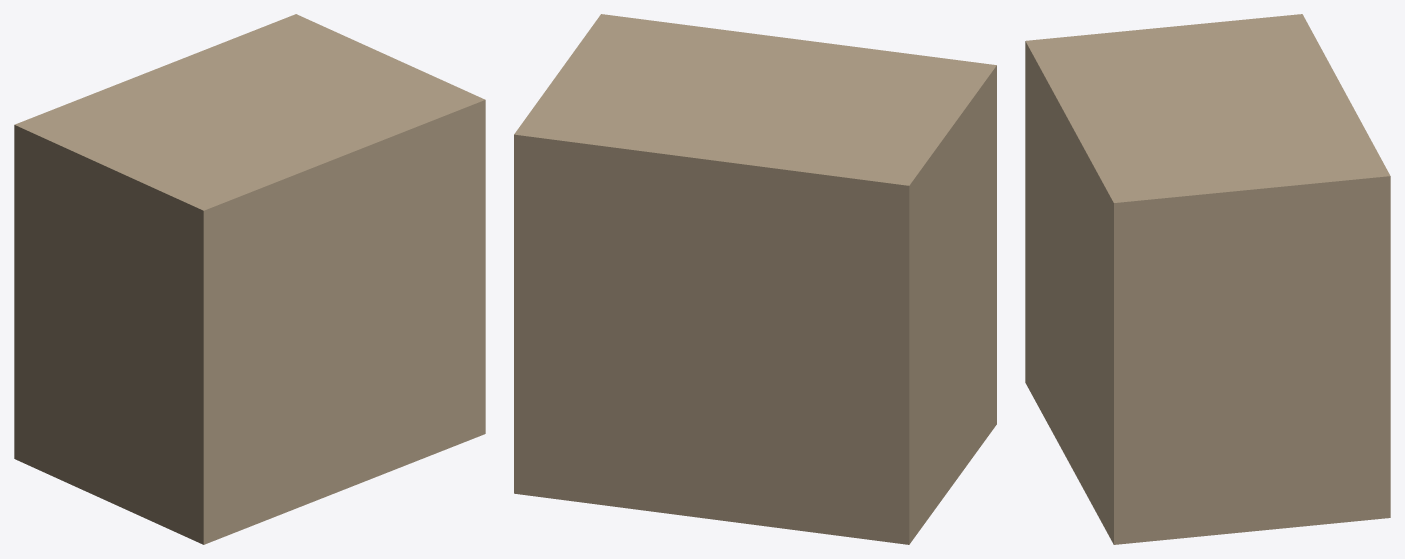
File: bld_106456145.dae
3 views of the same model, side by side, from view 1: azimuth 30°, elevation 25°; view 2: azimuth 150°, elevation 25°; view 3: azimuth 270°, elevation 25° (orthographic). The views are drawn at different scales.
Parts seen in each view (by area): view 1: bld_106456145; view 2: bld_106456145; view 3: bld_106456145.
Boxes of the visible parts, box(x1,y1,x2,y2) form: bld_106456145: box(14, 14, 485, 544); bld_106456145: box(514, 14, 996, 544); bld_106456145: box(1025, 14, 1390, 544).
Bounding box in the file's own units: 9.49 × 7.75 × 8.
